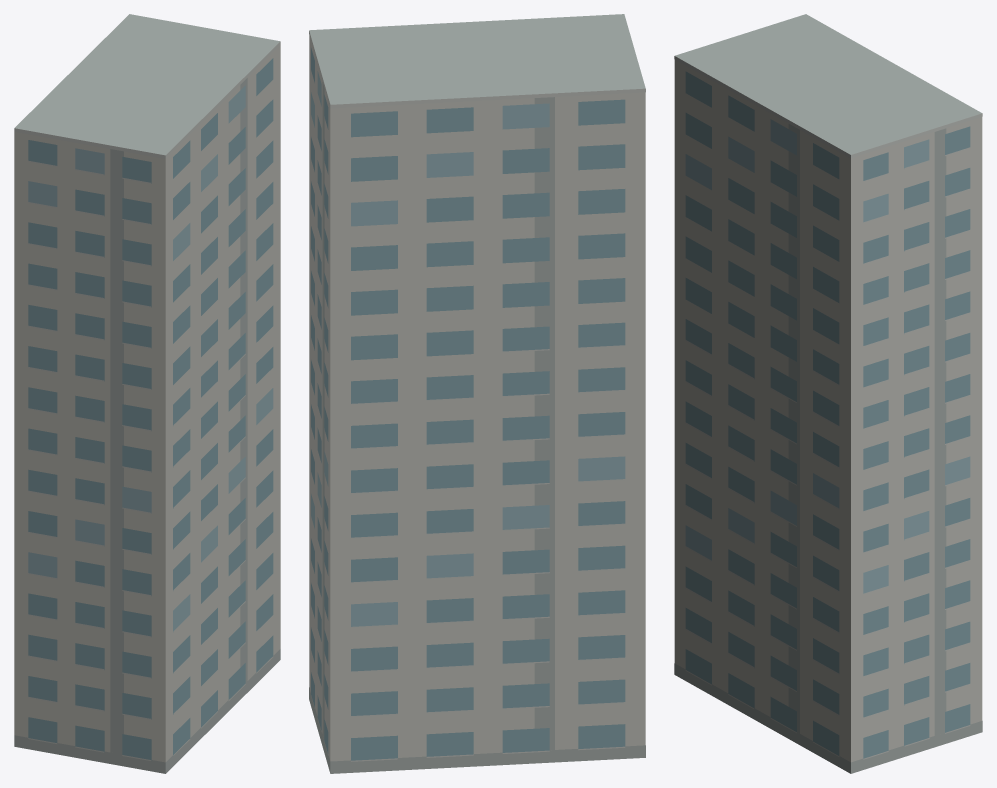
Rendered from residential-26abf8ec-a8b9-4204-90f3-3ea3f507f61f.glb.
3 views of the same model, side by side, from view 1: azimuth 30°, elevation 25°; view 2: azimuth 150°, elevation 25°; view 3: azimuth 270°, elevation 25° (orthographic). The views are drawn at different scales.
Parts seen in each view (by area): view 1: residential-26abf8ec-a8b9-4204-90f3-3ea3f507f61f.tmp; view 2: residential-26abf8ec-a8b9-4204-90f3-3ea3f507f61f.tmp; view 3: residential-26abf8ec-a8b9-4204-90f3-3ea3f507f61f.tmp.
Part boxes in pixels (x1,y1,x2,y2): residential-26abf8ec-a8b9-4204-90f3-3ea3f507f61f.tmp: (14, 14, 280, 773); residential-26abf8ec-a8b9-4204-90f3-3ea3f507f61f.tmp: (309, 14, 645, 773); residential-26abf8ec-a8b9-4204-90f3-3ea3f507f61f.tmp: (674, 14, 982, 773).
Size of the model in its own units: 21.02 by 43 by 19.4.
